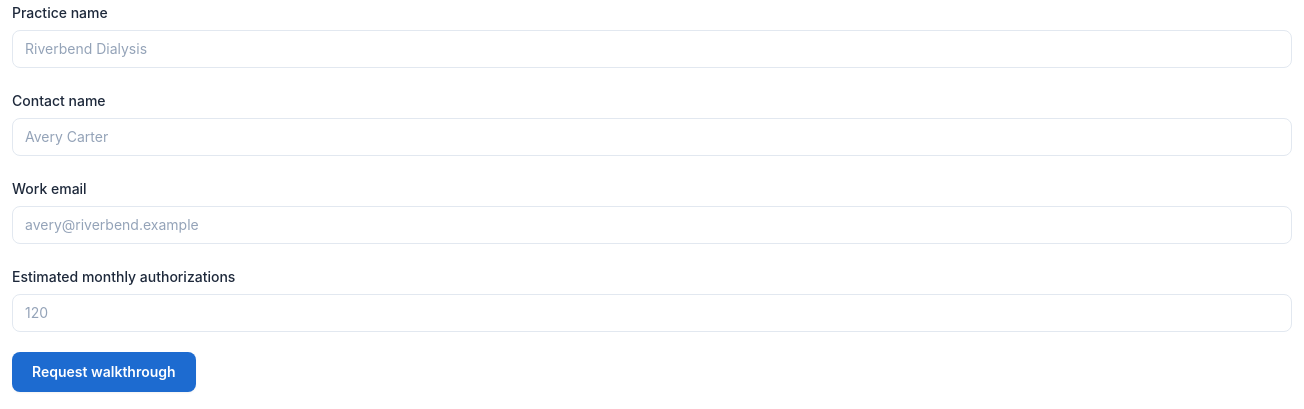
Test case: IntakeForm › transitions to a success state on valid submission
This screenshot has width=1304, height=409.
In the field with placeholder "Riverbend Dialysis": coordinates (652, 49) top-left (12, 30), bottom-right (1292, 68), type "Riverbend"
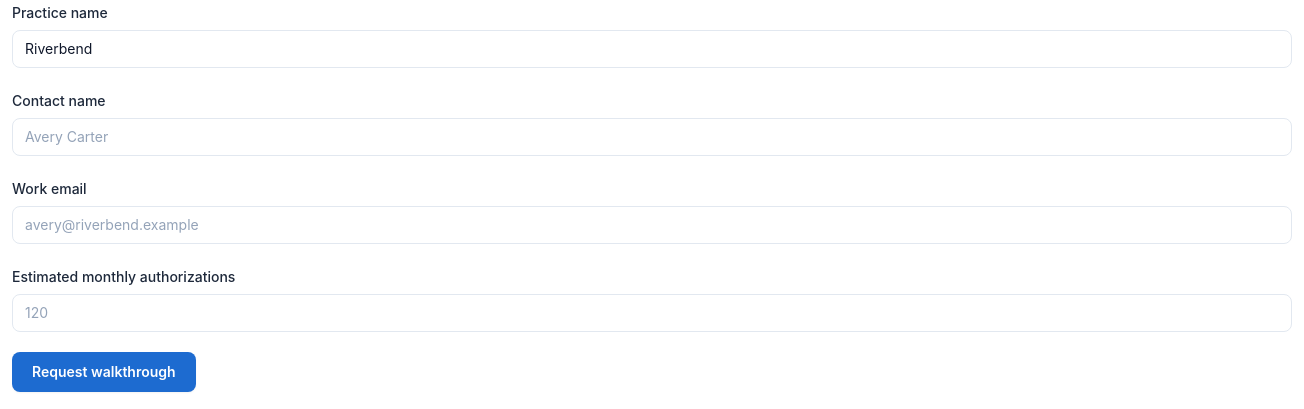
In the field with placeholder "Avery Carter": coordinates (652, 137) top-left (12, 118), bottom-right (1292, 156), type "Avery"
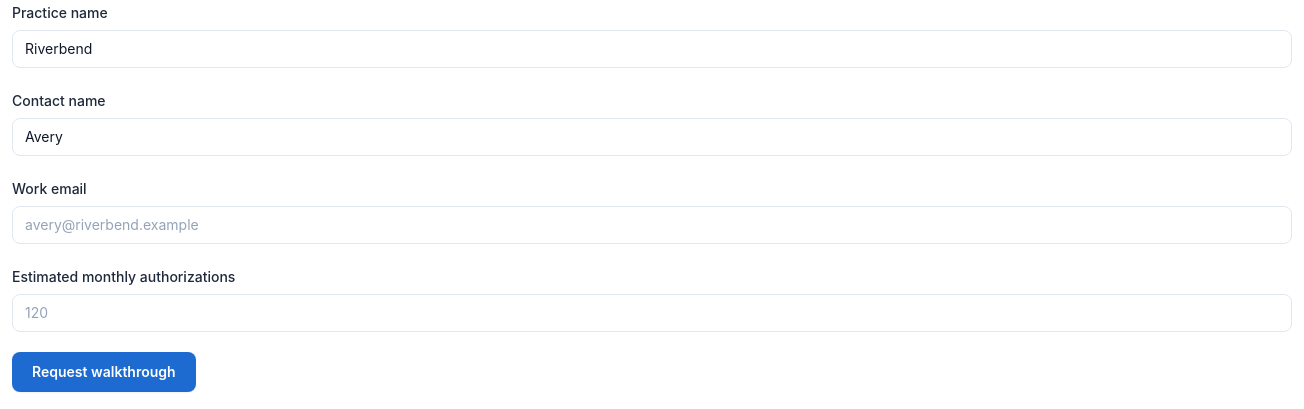
In the field with placeholder "avery@riverbend.example": coordinates (652, 225) top-left (12, 206), bottom-right (1292, 244), type "a@b.co"
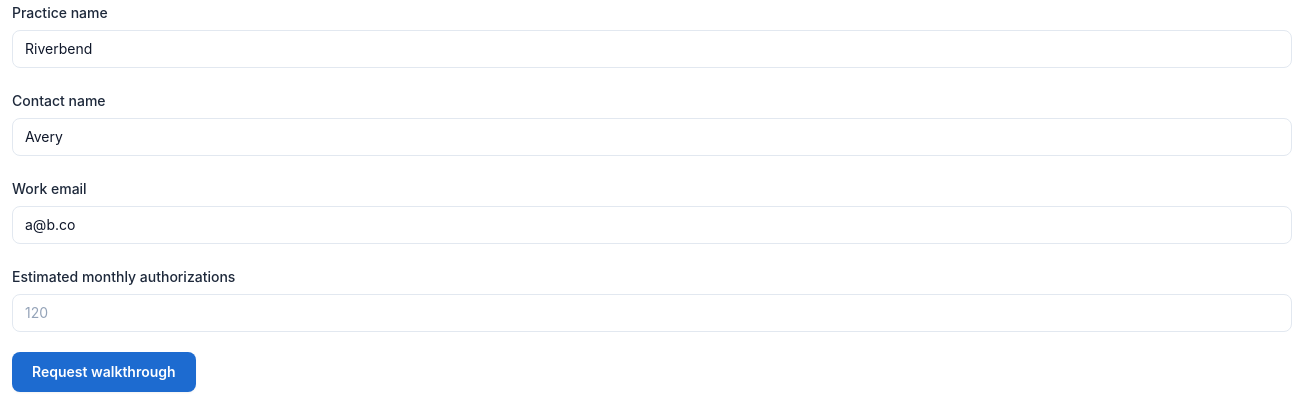
In the number field with placeholder "120": coordinates (652, 313) top-left (12, 294), bottom-right (1292, 332), type "150"
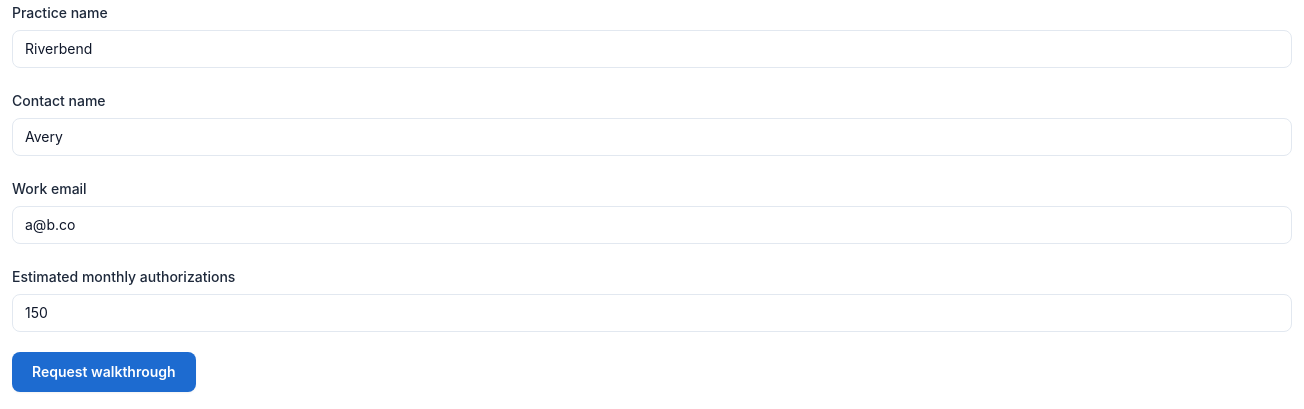
Click the button "Request walkthrough": coordinates (104, 372) top-left (12, 352), bottom-right (196, 392)
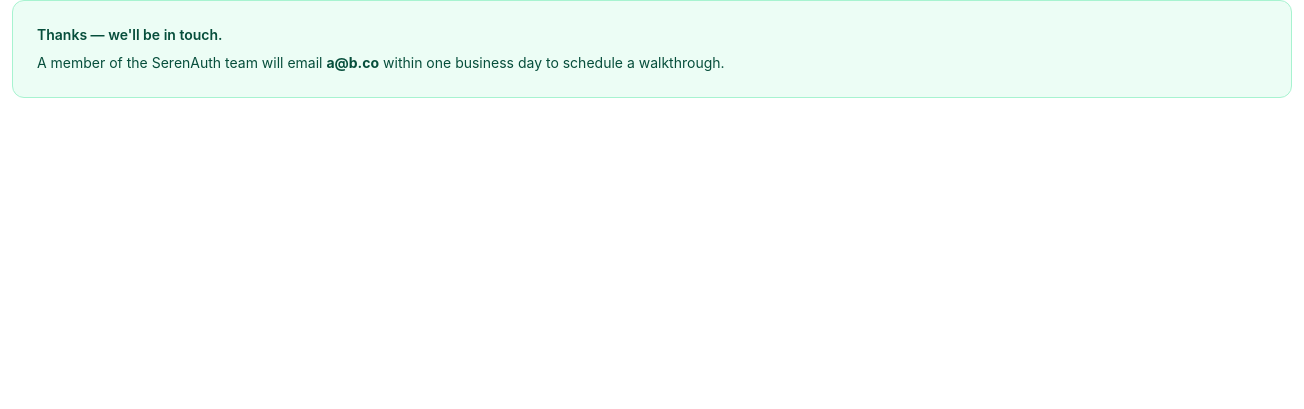
Now the text "Thanks — we'll be in touch." is shown, box top-left (37, 26), bottom-right (222, 43)
